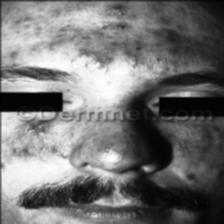Non-Cancerous Skin Condition: (59, 20, 187, 68), (162, 126, 224, 178), (4, 122, 69, 162), (103, 142, 111, 154)
